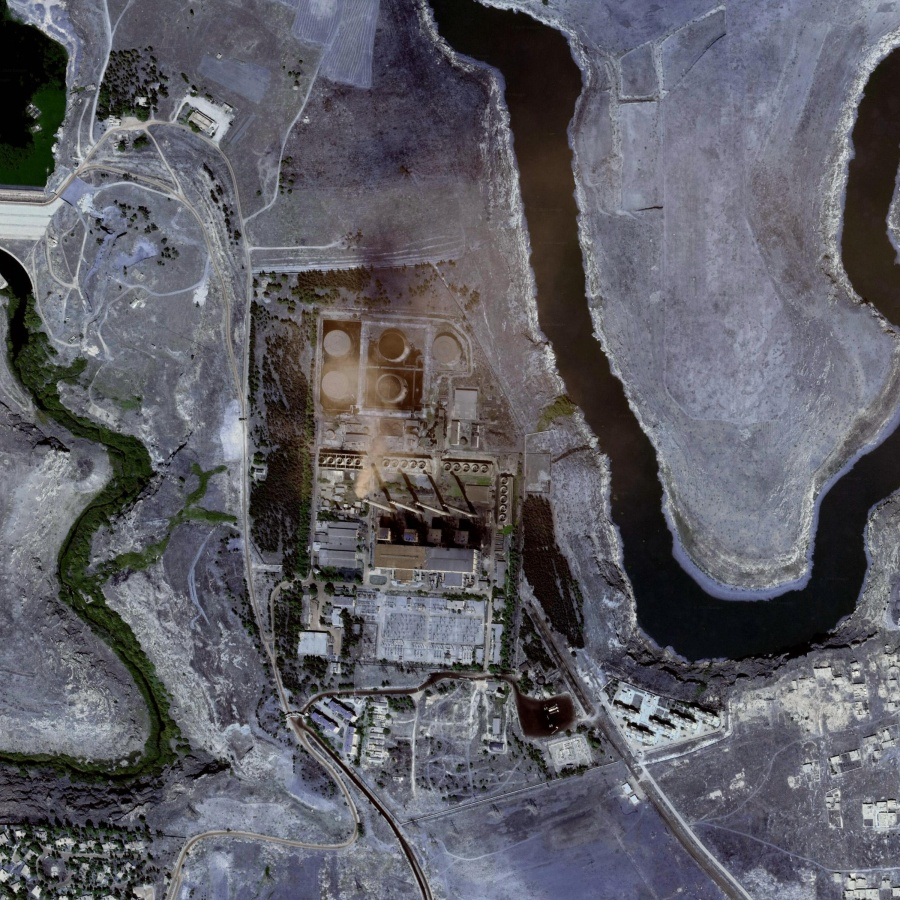PowerPlant: (259, 266, 637, 779)
